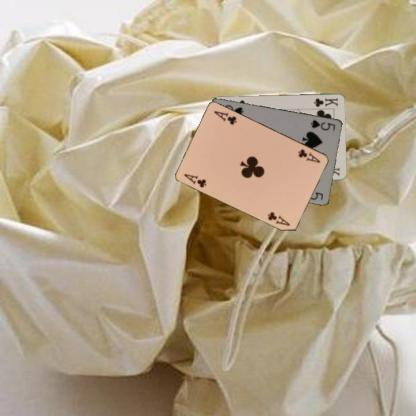5s: (308, 117, 337, 132)
Ac: (181, 171, 208, 189), (296, 146, 322, 164)
Kc: (312, 95, 339, 108)
